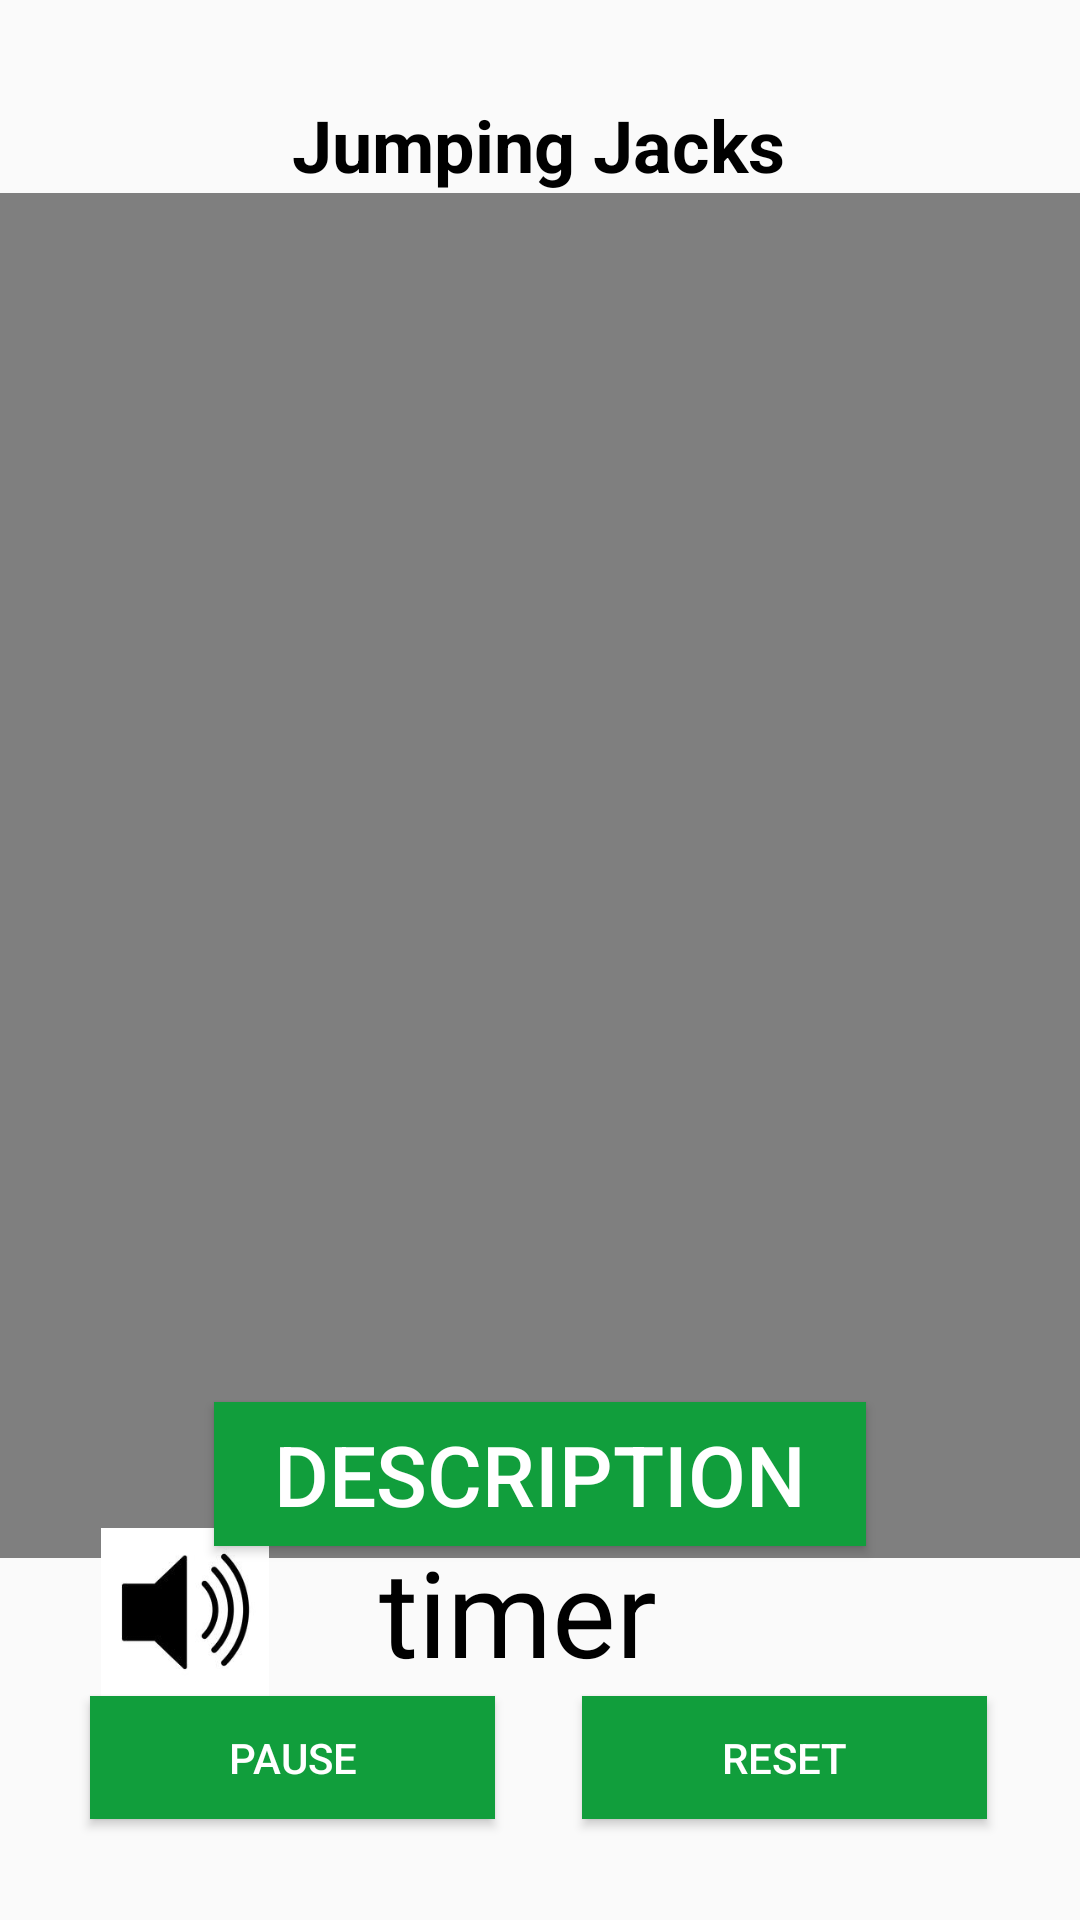

Icons on this 1080px×1920px Android screen, each with the point to tap as point (x, y):
speakericon: point (185, 1612)
